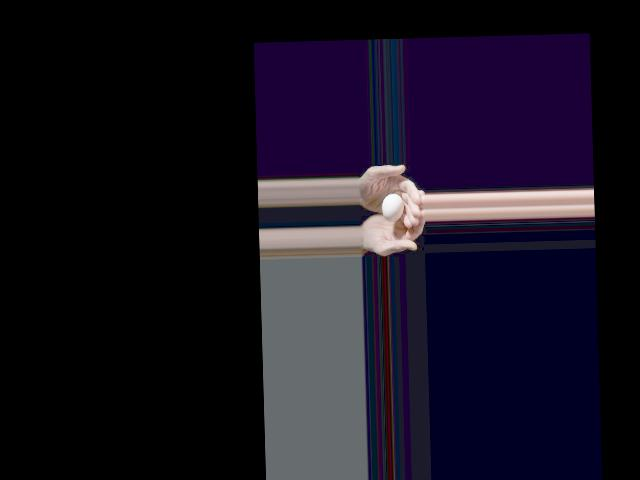egg: (381, 192, 404, 221)
